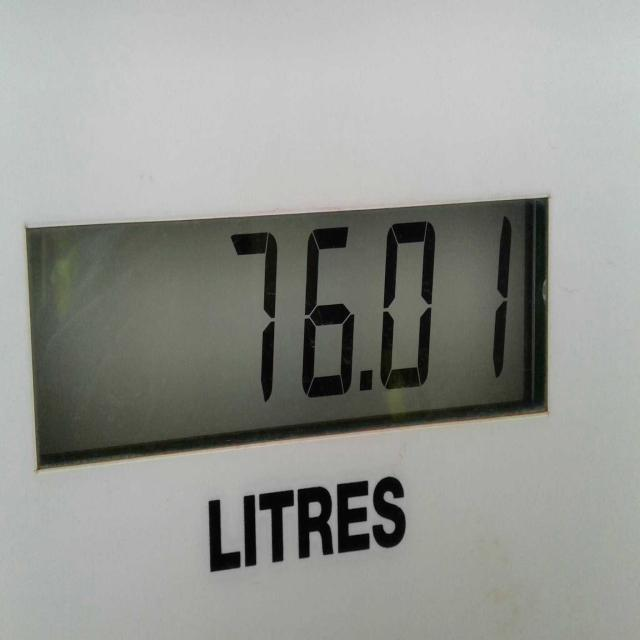.: (362, 368, 372, 391)
0: (382, 224, 434, 390)
1: (496, 218, 510, 380)
6: (304, 232, 355, 397)
7: (233, 232, 274, 404)
